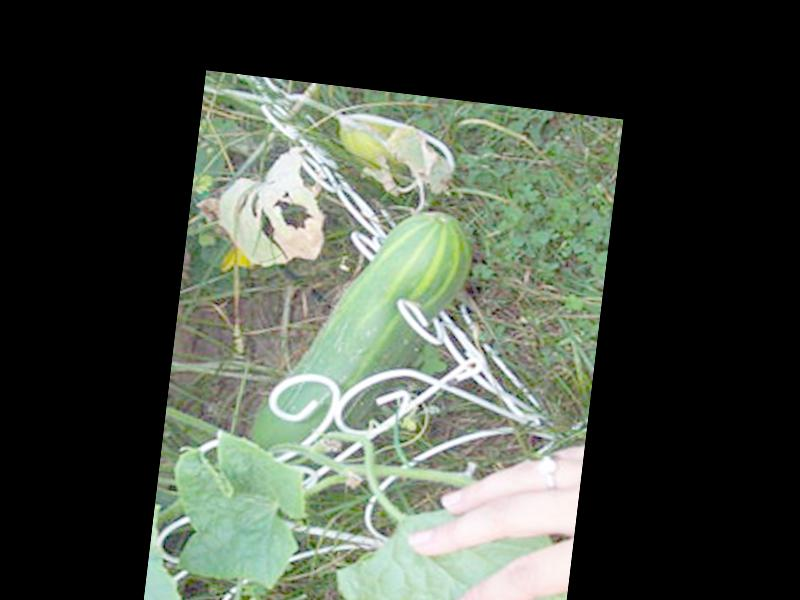Cucumber: (248, 193, 474, 474)
